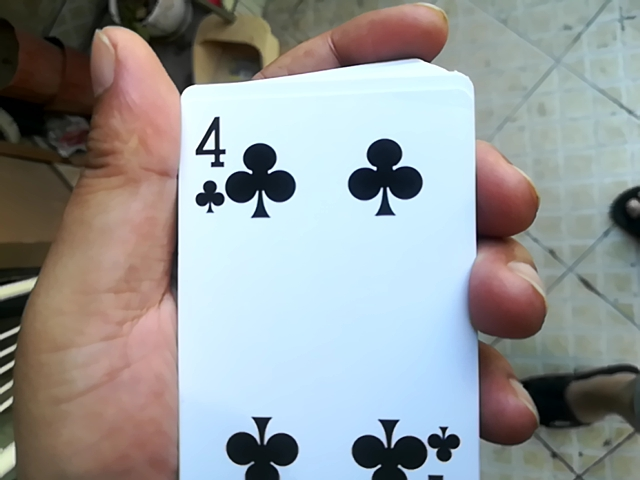mh 4: (167, 58, 463, 480)
